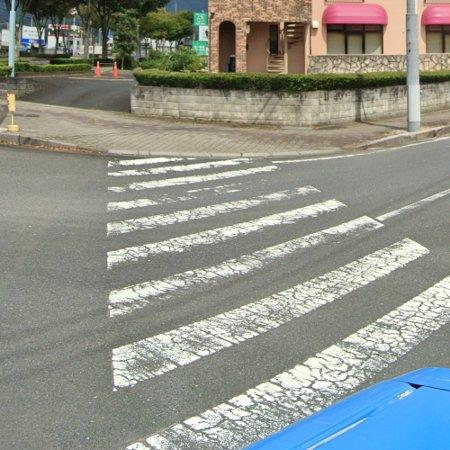crosswalks: (105, 158, 450, 450)
